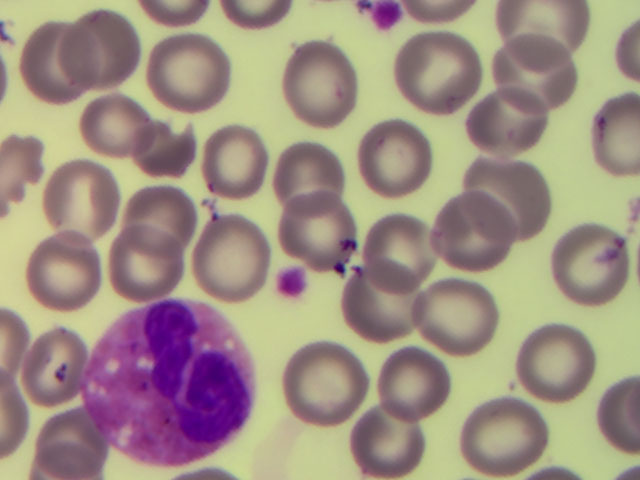Platelets: (274, 267, 309, 297), (369, 1, 404, 27)
RBC: (467, 156, 554, 240), (550, 223, 634, 304), (465, 396, 551, 472), (147, 36, 234, 110), (399, 32, 479, 110), (345, 265, 424, 343), (414, 280, 498, 353), (432, 198, 517, 270), (284, 40, 355, 126), (199, 216, 269, 303), (515, 327, 596, 400), (378, 347, 453, 424), (283, 347, 365, 416), (68, 14, 139, 93), (282, 193, 358, 266), (349, 407, 423, 480), (501, 35, 574, 108), (31, 238, 103, 312), (490, 1, 589, 53), (360, 118, 432, 189), (363, 221, 436, 290), (466, 95, 551, 154), (272, 145, 345, 213), (124, 187, 194, 255), (109, 231, 184, 294), (23, 22, 79, 106), (49, 164, 112, 234), (203, 129, 265, 200), (83, 92, 150, 156), (26, 326, 80, 405), (594, 92, 640, 180), (40, 417, 98, 480), (597, 380, 640, 453), (1, 134, 38, 218), (217, 1, 287, 29), (406, 1, 471, 24), (136, 1, 209, 21)
WBC: (96, 300, 254, 452)
